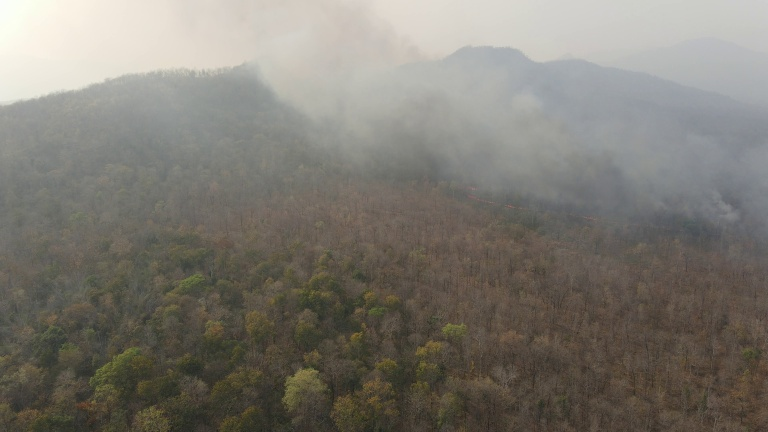fire: (461, 185, 523, 214), (578, 210, 603, 228)
smoke: (194, 1, 598, 209), (583, 102, 768, 230)
